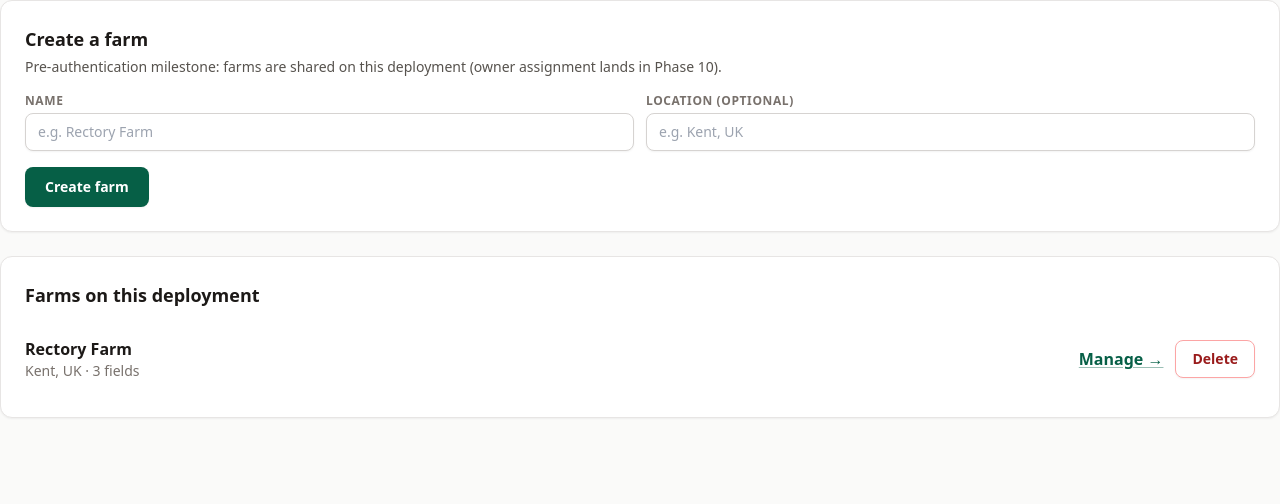
Test: FarmsManager › creates a farm and refreshes the list
The image size is (1280, 504).
Expected: the link "Rectory Farm" is shown, [25, 338, 132, 360]
Type "Manor Farm" into the field labelled "Name" at (330, 132), box [25, 113, 634, 151]
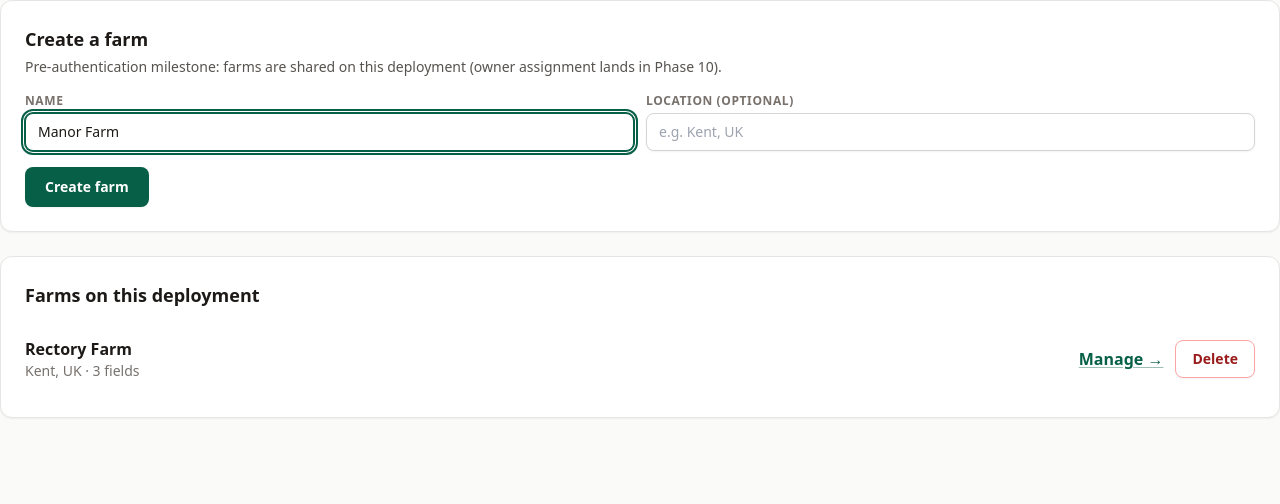
Click the button "Create farm" at (87, 187), box [25, 167, 149, 207]
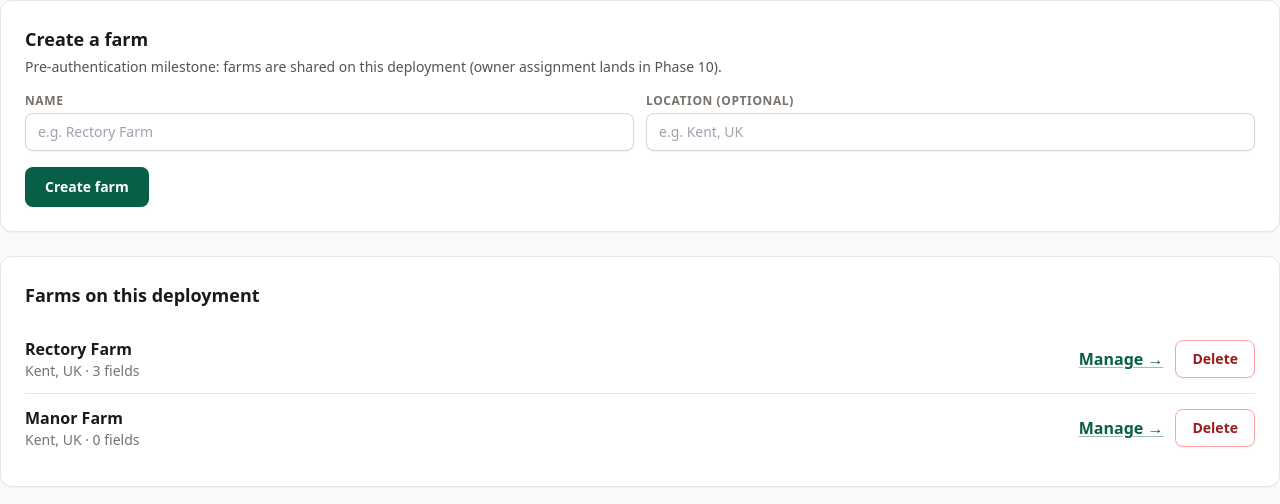
Now the link "Manor Farm" is shown, box [25, 407, 123, 429]
